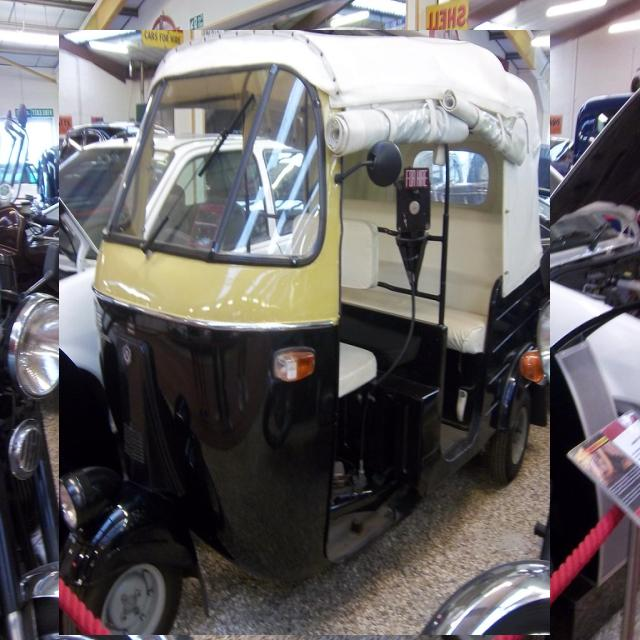autorickshaw: (59, 30, 550, 635)
